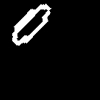chain: (12, 4, 50, 44)
